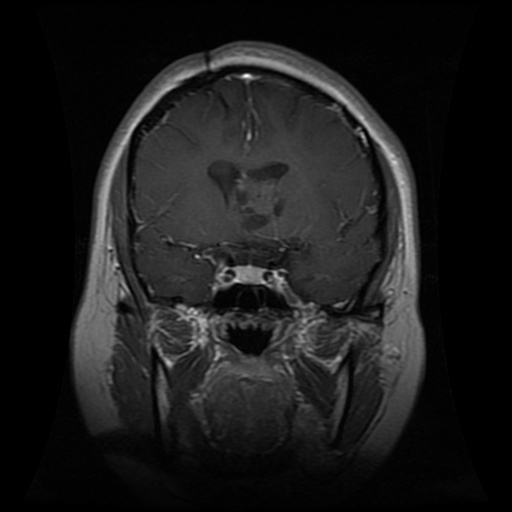glioma: (206, 156, 308, 253)
